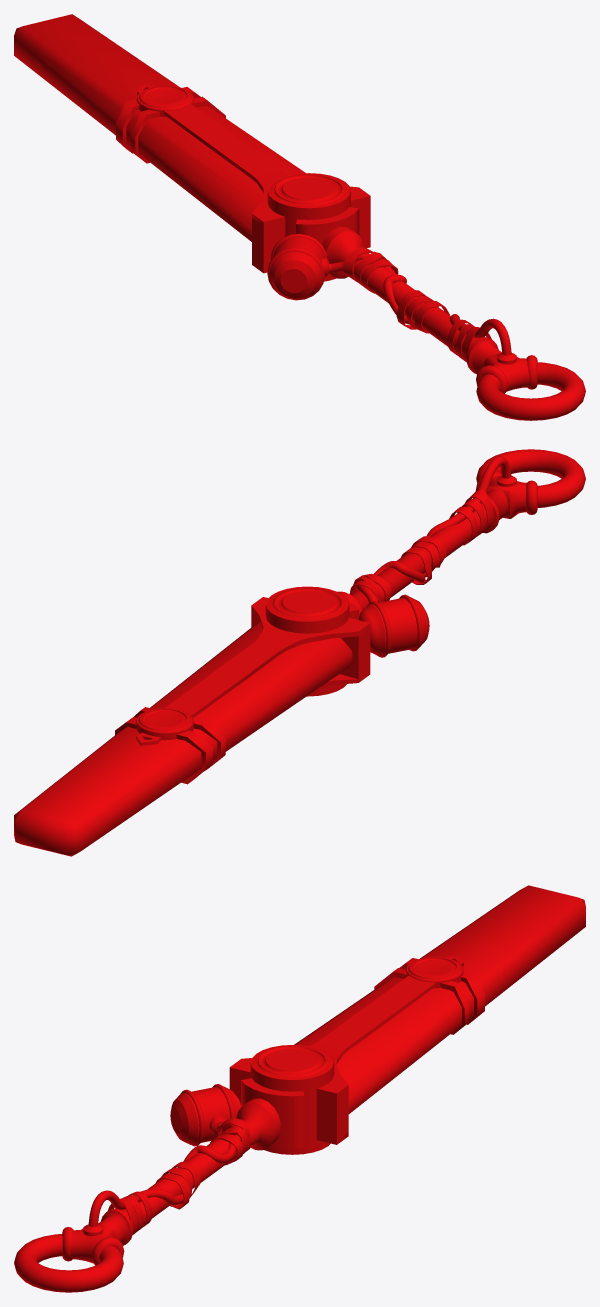
Rendered from EkkoSword.fbx.
3 renders of one model, top to bottom at view 1: azimuth 30°, elevation 25°; view 2: azimuth 150°, elevation 25°; view 3: azimuth 330°, elevation 25°, orthographic.
Parts seen in each view (by area): view 1: Blade_low; view 2: Blade_low; view 3: Blade_low.
Part boxes in pixels (x1,y1,x2,y2): Blade_low: (14,14,585,420); Blade_low: (14,449,585,856); Blade_low: (14,885,585,1292).
Bounding box in the file's own units: 355 × 220 × 2427.
